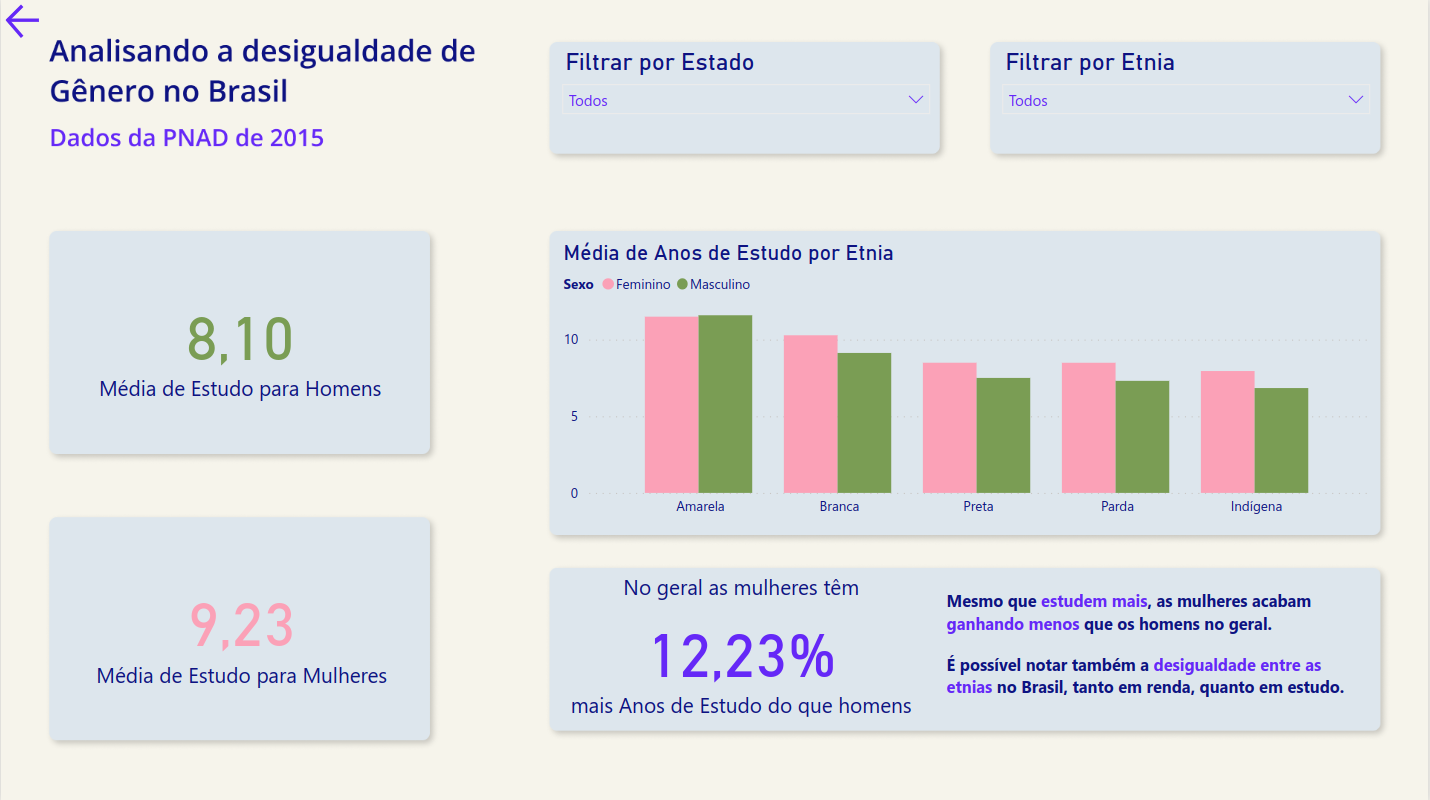

Layout of this report page (visuals, bound fields, positions):
{"tool":"powerbi","page":{"name":"Estudo","canvas":[1280,720],"ordinal":2},"visuals":[{"type":"card","fields":{"Values":["MedidasSP.MediaEstudoHomens"]},"box":[43.7,208.9,341.1,202.2],"z":0},{"type":"card","fields":{"Values":["Medidas.MediaEstudoMulheres"]},"box":[44.7,466.5,342.1,201.2],"z":1000},{"type":"slicer","fields":{"Values":["Renda.UF"]},"box":[492.8,40.8,349.9,98.2],"z":2000},{"type":"slicer","fields":{"Values":["Renda.Cor"]},"box":[887.4,40.8,349.9,98.2],"z":3000},{"type":"clusteredColumnChart","title":"Média de Anos de Estudo por Etnia","fields":{"Category":["Renda.Cor"],"Series":["Renda.Sexo"],"Y":["Avg(Renda.Anos de Estudo)"]},"box":[499.6,217.7,730.9,254.6],"z":4000},{"type":"card","title":"No geral as mulheres têm","fields":{"Values":["Medidas.DiferencaEmEstudo"]},"box":[492.8,515.1,341.1,134.1],"z":5000},{"type":"textbox","box":[842.6,524.8,387.8,115.7],"z":6000},{"type":"actionButton","box":[0,0,50.5,39.8],"z":6001}]}

Visuals, with their boxes in screenshot pixels (x1, y1, x2, y2), scaled from the page's 1280x720 canvas onto the 1430x800 screenshot:
card - MedidasSP.MediaEstudoHomens: <box>49,232,430,457</box>
card - Medidas.MediaEstudoMulheres: <box>50,518,432,742</box>
slicer - Renda.UF: <box>551,45,941,154</box>
slicer - Renda.Cor: <box>991,45,1382,154</box>
"Média de Anos de Estudo por Etnia" clusteredColumnChart: <box>558,242,1375,525</box>
"No geral as mulheres têm" card: <box>551,572,932,721</box>
textbox: <box>941,583,1375,712</box>
actionButton: <box>0,0,56,44</box>
